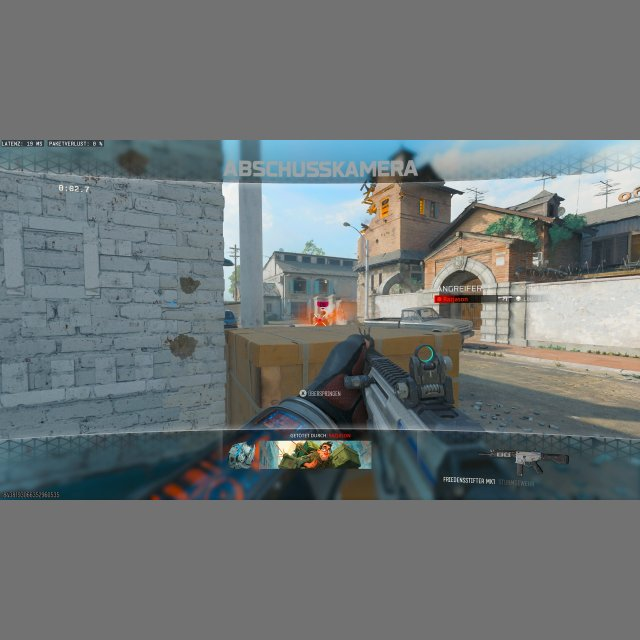player: (315, 309, 328, 326)
